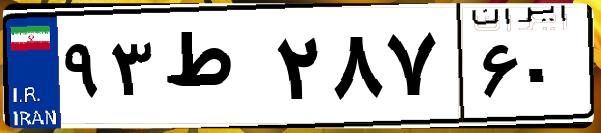0: (525, 38, 570, 115)
2: (270, 28, 330, 110)
3: (110, 28, 158, 98)
6: (475, 38, 525, 113)
7: (385, 28, 445, 110)
8: (330, 28, 385, 110)
9: (57, 26, 110, 100)
ط: (158, 20, 270, 120)
